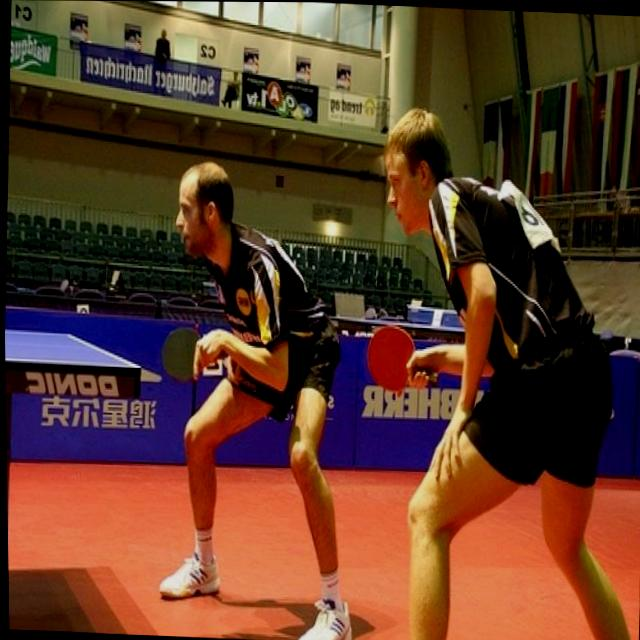TT Racket: (357, 314, 424, 401), (158, 321, 209, 388)
TT Table: (5, 329, 140, 368)
